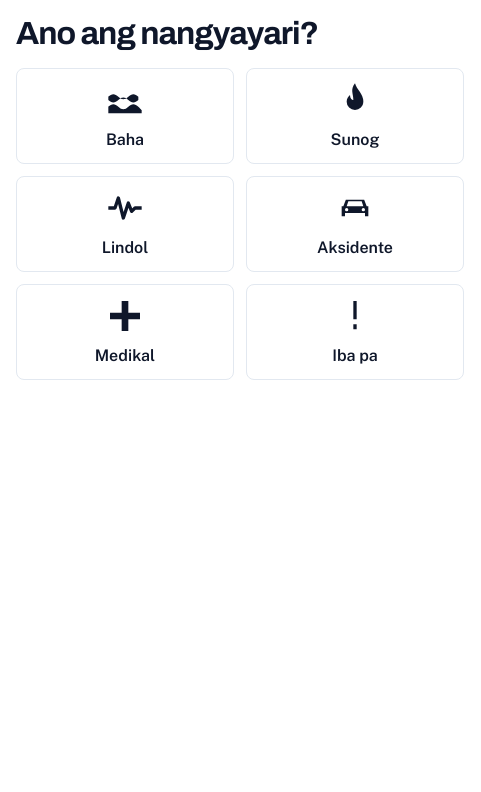
Test case: ReportPage › submits the depth and geolocation coordinates, then shows the thank-you message
Click the button "Baha" at [125, 116], box [16, 68, 234, 164]
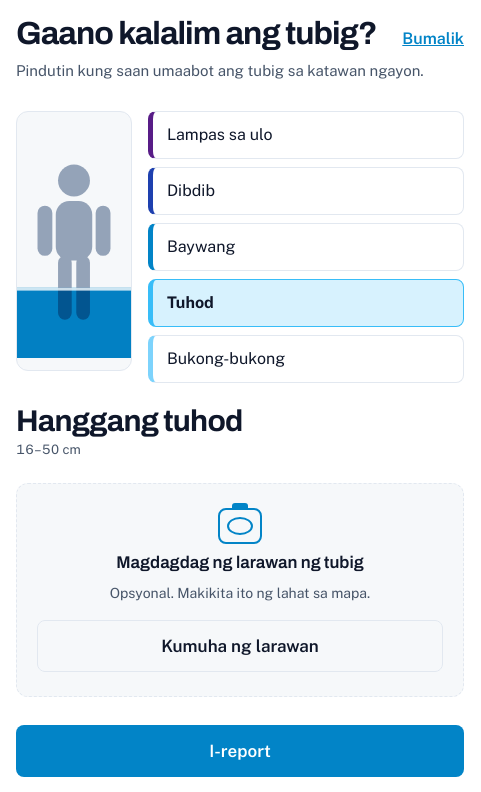
Click the button "I-report" at [240, 751], box [16, 725, 464, 777]
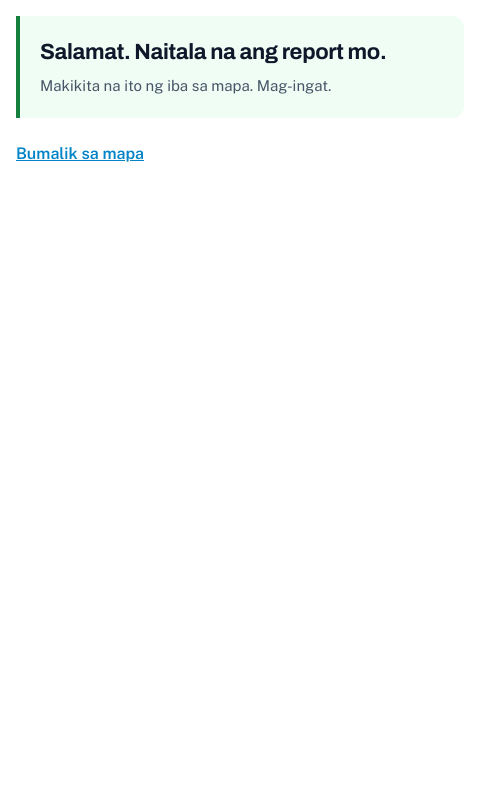
expect the heading "Salamat. Naitala na ang report mo." is shown: met, box [40, 36, 444, 69]
